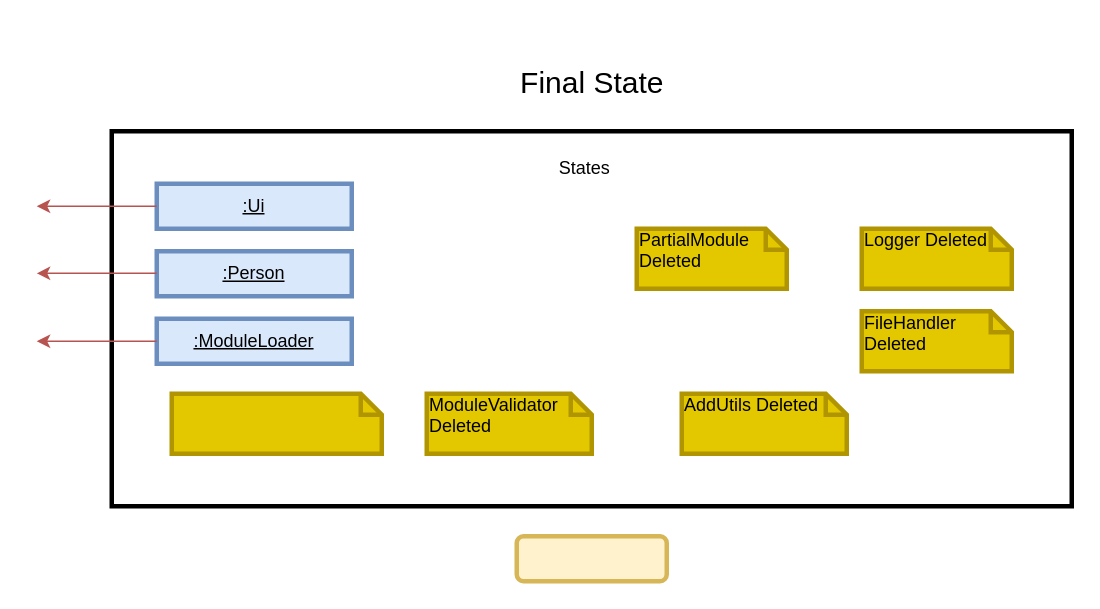
This 1100x609 diagram has some shape labels left out. The box of each missing label's shape, as (x1, y1, x2, y2) in pixels:
AddModuleCommand Deleted: (169, 391, 383, 455)
Current State: (514, 533, 668, 583)
